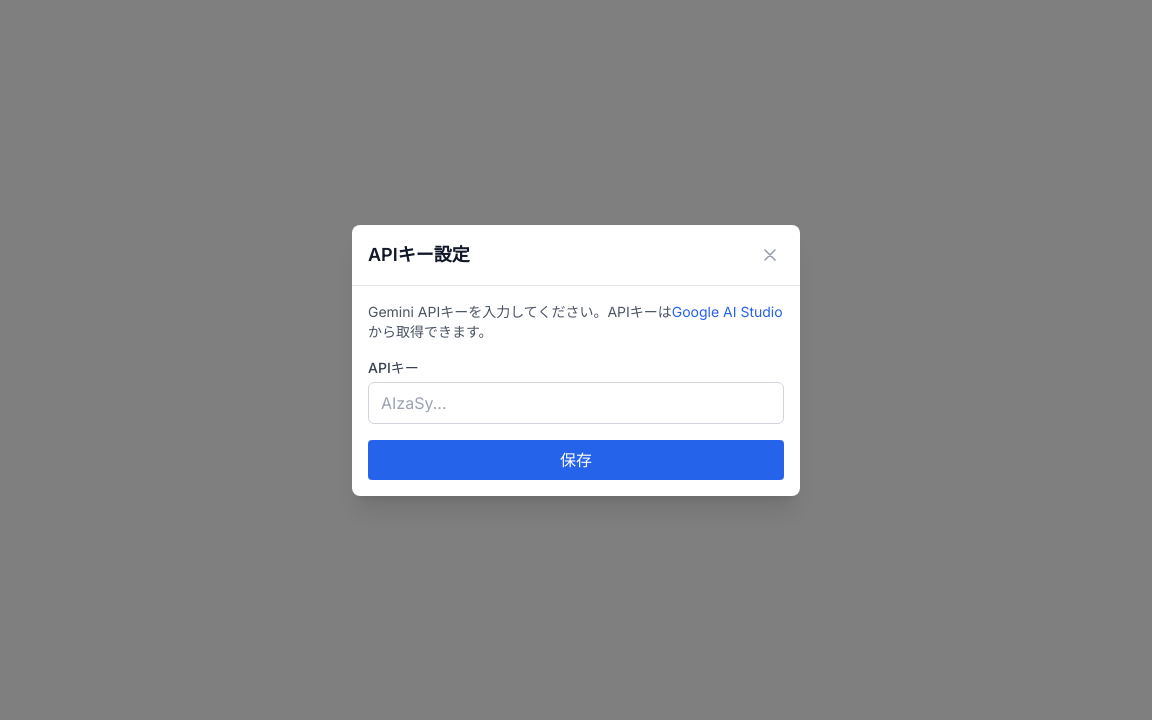
Test case: APIKeyModal › バリデーション › 短すぎるAPIキーでエラーメッセージが表示される
Type "short" into the password field with placeholder "AIzaSy...".
click(576, 402); type("short")  # box [368,382,784,424]
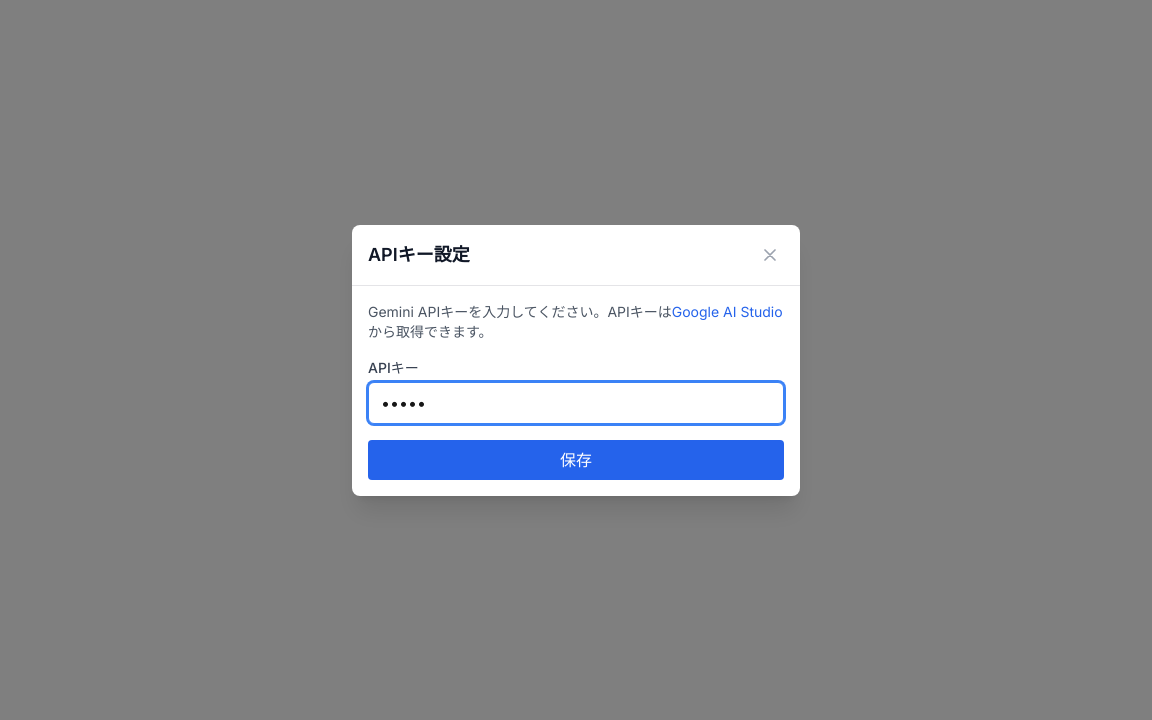
Click the button "保存".
click(576, 460)  # box [368,440,784,480]
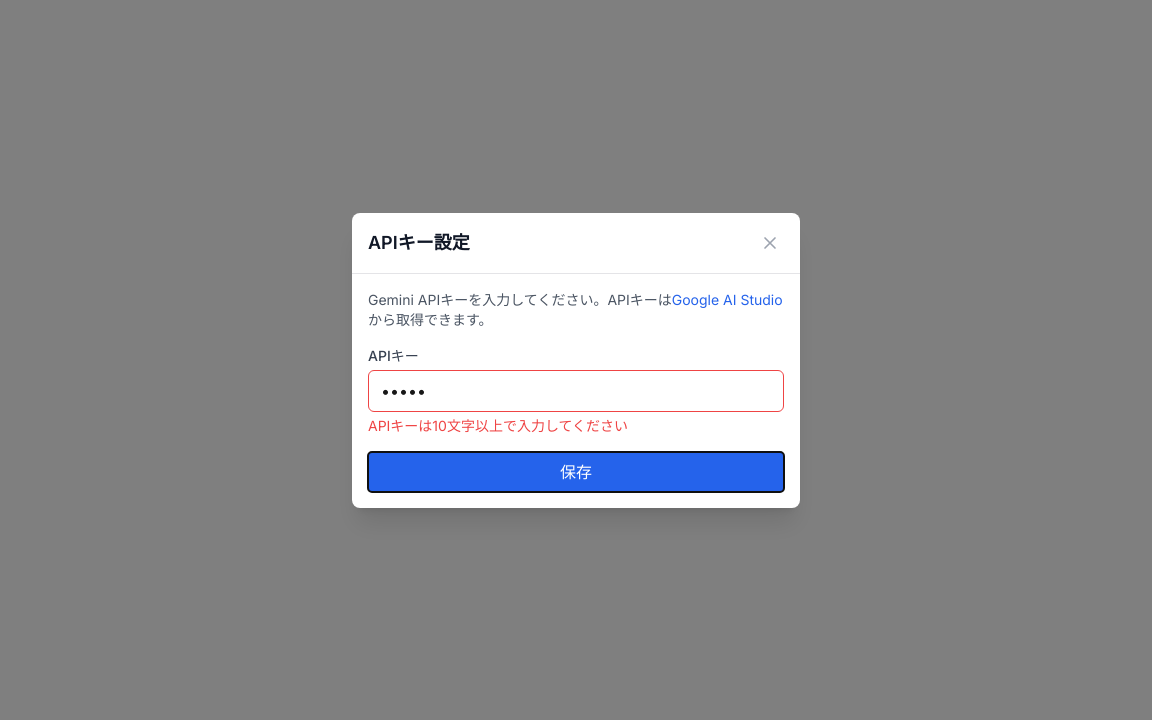
expect the text "APIキーは10文字以上で入力してください" is shown: met, box [368,416,628,434]
